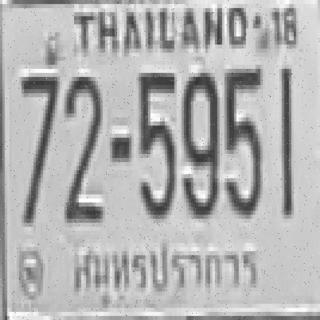N01: (279, 65, 291, 215)
N02: (64, 71, 102, 221)
N05: (222, 65, 260, 215), (136, 69, 174, 215)
N07: (19, 71, 57, 221), (19, 71, 57, 192)
N09: (182, 69, 218, 215)
P57: (71, 239, 261, 307)
